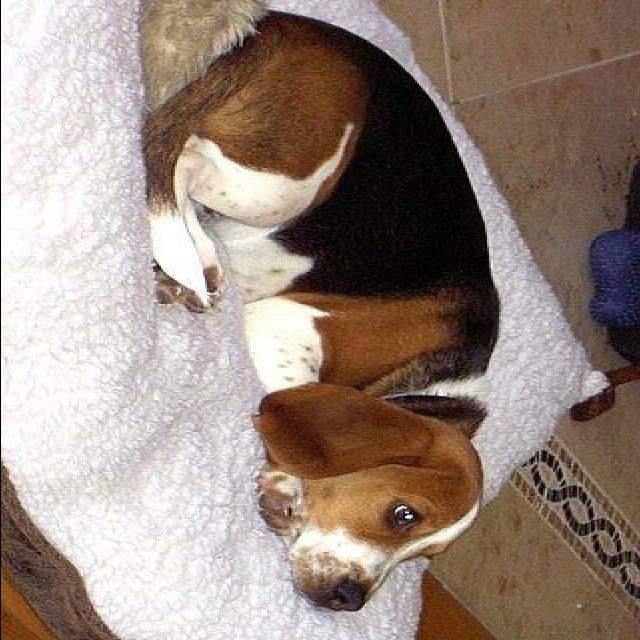beagle: (140, 11, 500, 613)
